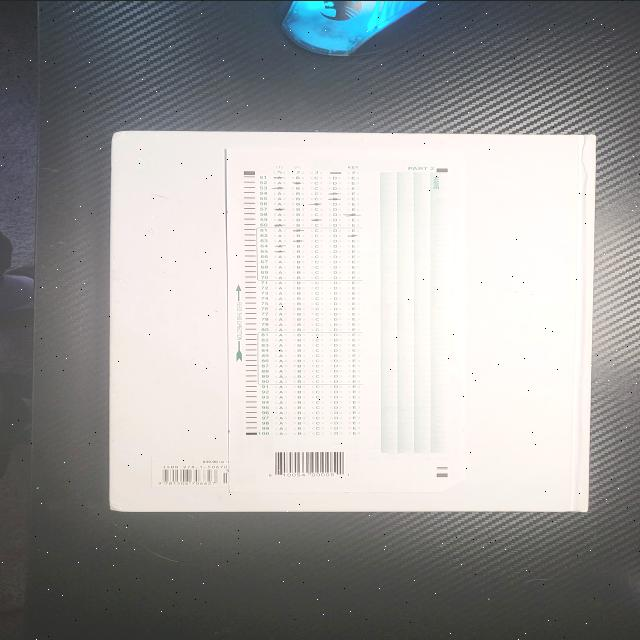scantron_back: (226, 146, 467, 492)
